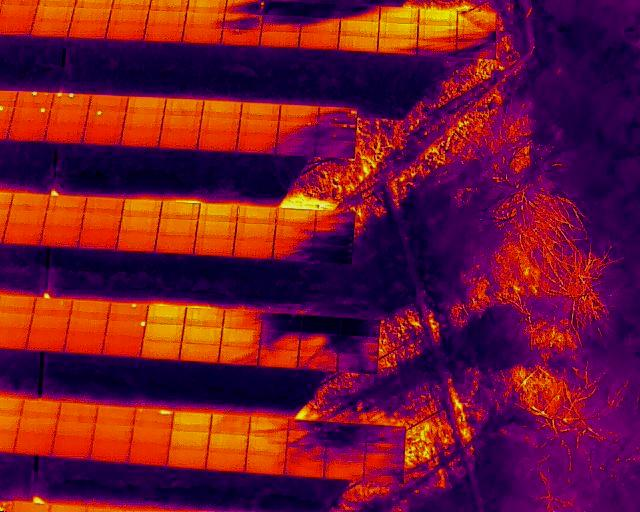Cell: (86, 109, 126, 128), (106, 320, 147, 338), (10, 108, 50, 124), (108, 304, 147, 320), (225, 0, 264, 15)
Cell-Multi: (12, 91, 53, 108), (318, 107, 356, 125), (50, 93, 90, 110), (317, 124, 355, 139)
No-Anomaly: (16, 432, 53, 455), (169, 449, 207, 470), (54, 436, 92, 457), (181, 326, 225, 344), (180, 344, 221, 363), (92, 442, 129, 463), (59, 402, 97, 422), (7, 123, 47, 142), (64, 337, 106, 355), (101, 338, 143, 356), (259, 349, 298, 368), (207, 453, 246, 472), (132, 427, 171, 446), (129, 446, 168, 465), (286, 459, 325, 478), (247, 456, 286, 475), (247, 436, 286, 455), (193, 237, 234, 255), (220, 328, 261, 346), (140, 341, 181, 359), (211, 415, 249, 434), (116, 231, 156, 249), (70, 300, 110, 318), (26, 334, 66, 352), (45, 125, 85, 143), (236, 138, 278, 155), (97, 406, 134, 425), (41, 228, 80, 246), (78, 229, 117, 247), (147, 305, 186, 323), (199, 118, 238, 136), (83, 128, 122, 146), (67, 319, 108, 336), (198, 204, 239, 221), (33, 298, 71, 316), (223, 309, 261, 327), (174, 413, 210, 432), (419, 8, 457, 26), (325, 460, 363, 478), (122, 198, 160, 216), (238, 120, 278, 137), (159, 132, 199, 149), (6, 213, 46, 230), (171, 430, 208, 448), (10, 194, 47, 212), (23, 401, 58, 420), (235, 241, 274, 258), (29, 317, 68, 334), (197, 135, 236, 152), (1, 230, 42, 246), (81, 213, 122, 229), (236, 208, 277, 224), (20, 418, 56, 436), (107, 24, 145, 41), (146, 323, 184, 340), (202, 101, 240, 118), (164, 100, 202, 117), (209, 435, 247, 452), (380, 7, 418, 24), (236, 224, 276, 240), (196, 221, 236, 237), (222, 30, 262, 46), (123, 115, 163, 131), (43, 211, 83, 227), (48, 109, 88, 125), (241, 104, 281, 120), (33, 20, 70, 37), (147, 24, 184, 41), (156, 234, 195, 250), (340, 20, 379, 36), (185, 310, 224, 326), (183, 28, 222, 44), (280, 106, 319, 122), (84, 197, 123, 213), (127, 98, 163, 115), (56, 422, 94, 438), (186, 13, 224, 29), (121, 132, 161, 147), (157, 219, 197, 234), (70, 21, 107, 37), (302, 33, 339, 49), (95, 425, 132, 441), (379, 23, 418, 38), (161, 117, 200, 132), (89, 94, 128, 109), (277, 210, 316, 225), (261, 33, 299, 48), (161, 203, 199, 218), (46, 196, 86, 210), (119, 216, 159, 230), (339, 37, 379, 51), (73, 7, 110, 22), (34, 6, 72, 20), (109, 10, 146, 24), (0, 5, 34, 20), (147, 11, 186, 24), (0, 20, 33, 35)
Shadowing: (364, 461, 404, 482), (287, 421, 328, 440), (364, 443, 405, 462), (299, 333, 339, 352), (338, 353, 379, 371), (287, 441, 328, 459), (250, 417, 288, 436), (366, 424, 404, 443), (316, 139, 356, 157), (219, 347, 260, 364), (315, 244, 353, 262), (262, 313, 300, 331), (278, 122, 316, 140), (329, 424, 367, 442), (327, 442, 365, 460), (274, 243, 314, 260), (300, 316, 340, 333), (340, 319, 379, 336), (260, 332, 299, 349), (299, 352, 338, 369), (224, 13, 263, 30), (274, 226, 315, 242), (339, 336, 380, 352), (457, 12, 495, 29), (458, 43, 496, 60), (276, 140, 316, 156), (262, 16, 301, 32), (301, 18, 340, 34), (341, 5, 380, 21), (264, 0, 303, 16), (315, 227, 353, 243), (418, 26, 458, 41), (418, 42, 458, 57), (377, 40, 417, 55), (458, 28, 496, 43), (303, 3, 340, 18), (316, 211, 353, 226)
Unclassified: (134, 408, 172, 427)
